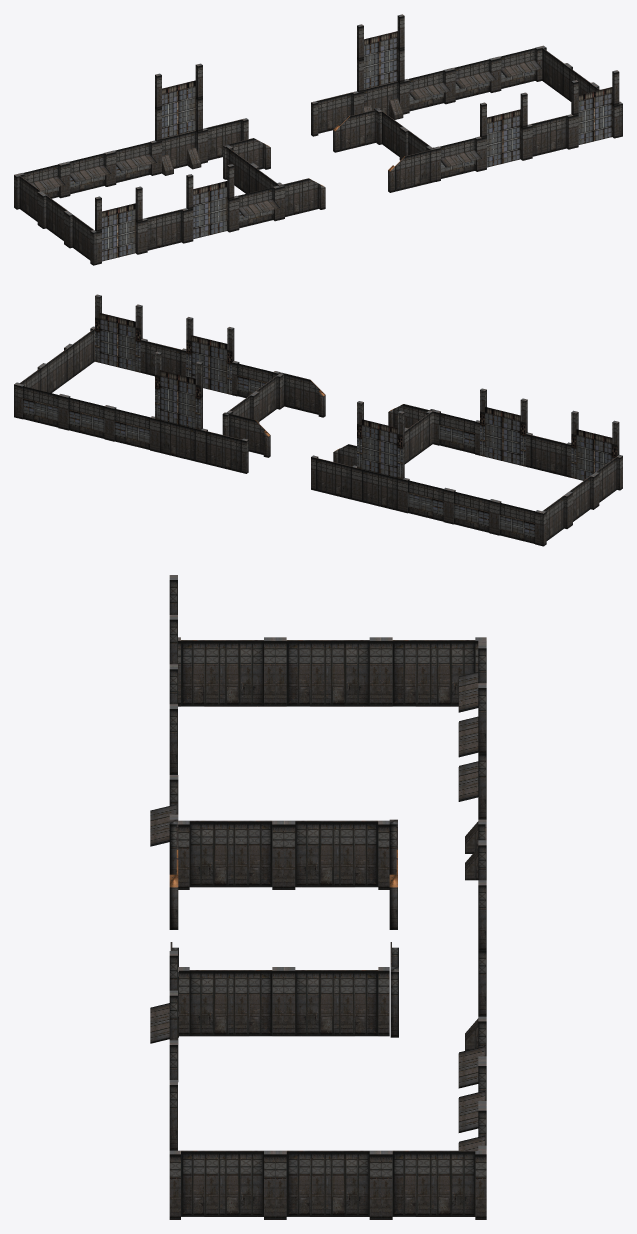
Rendered from military_buildings_single_CLEAN.glb.
The picture shows the model from 3 angles, top to bottom: view 1: azimuth 30°, elevation 25°; view 2: azimuth 150°, elevation 25°; view 3: azimuth 270°, elevation 25°; orthographic projection. The views are drawn at different scales.
Visible parts, largest first — view 1: Plane.001_Piece_Curve_Piece.004; view 2: Plane.001_Piece_Curve_Piece.004; view 3: Plane.001_Piece_Curve_Piece.004.
Part boxes in pixels (x1,y1,x2,y2): Plane.001_Piece_Curve_Piece.004: (14,14,622,265); Plane.001_Piece_Curve_Piece.004: (14,294,622,546); Plane.001_Piece_Curve_Piece.004: (150,575,486,1219).
Size of the model in its own units: 67.01 by 11.92 by 18.44.
1 material, 1 textured.
